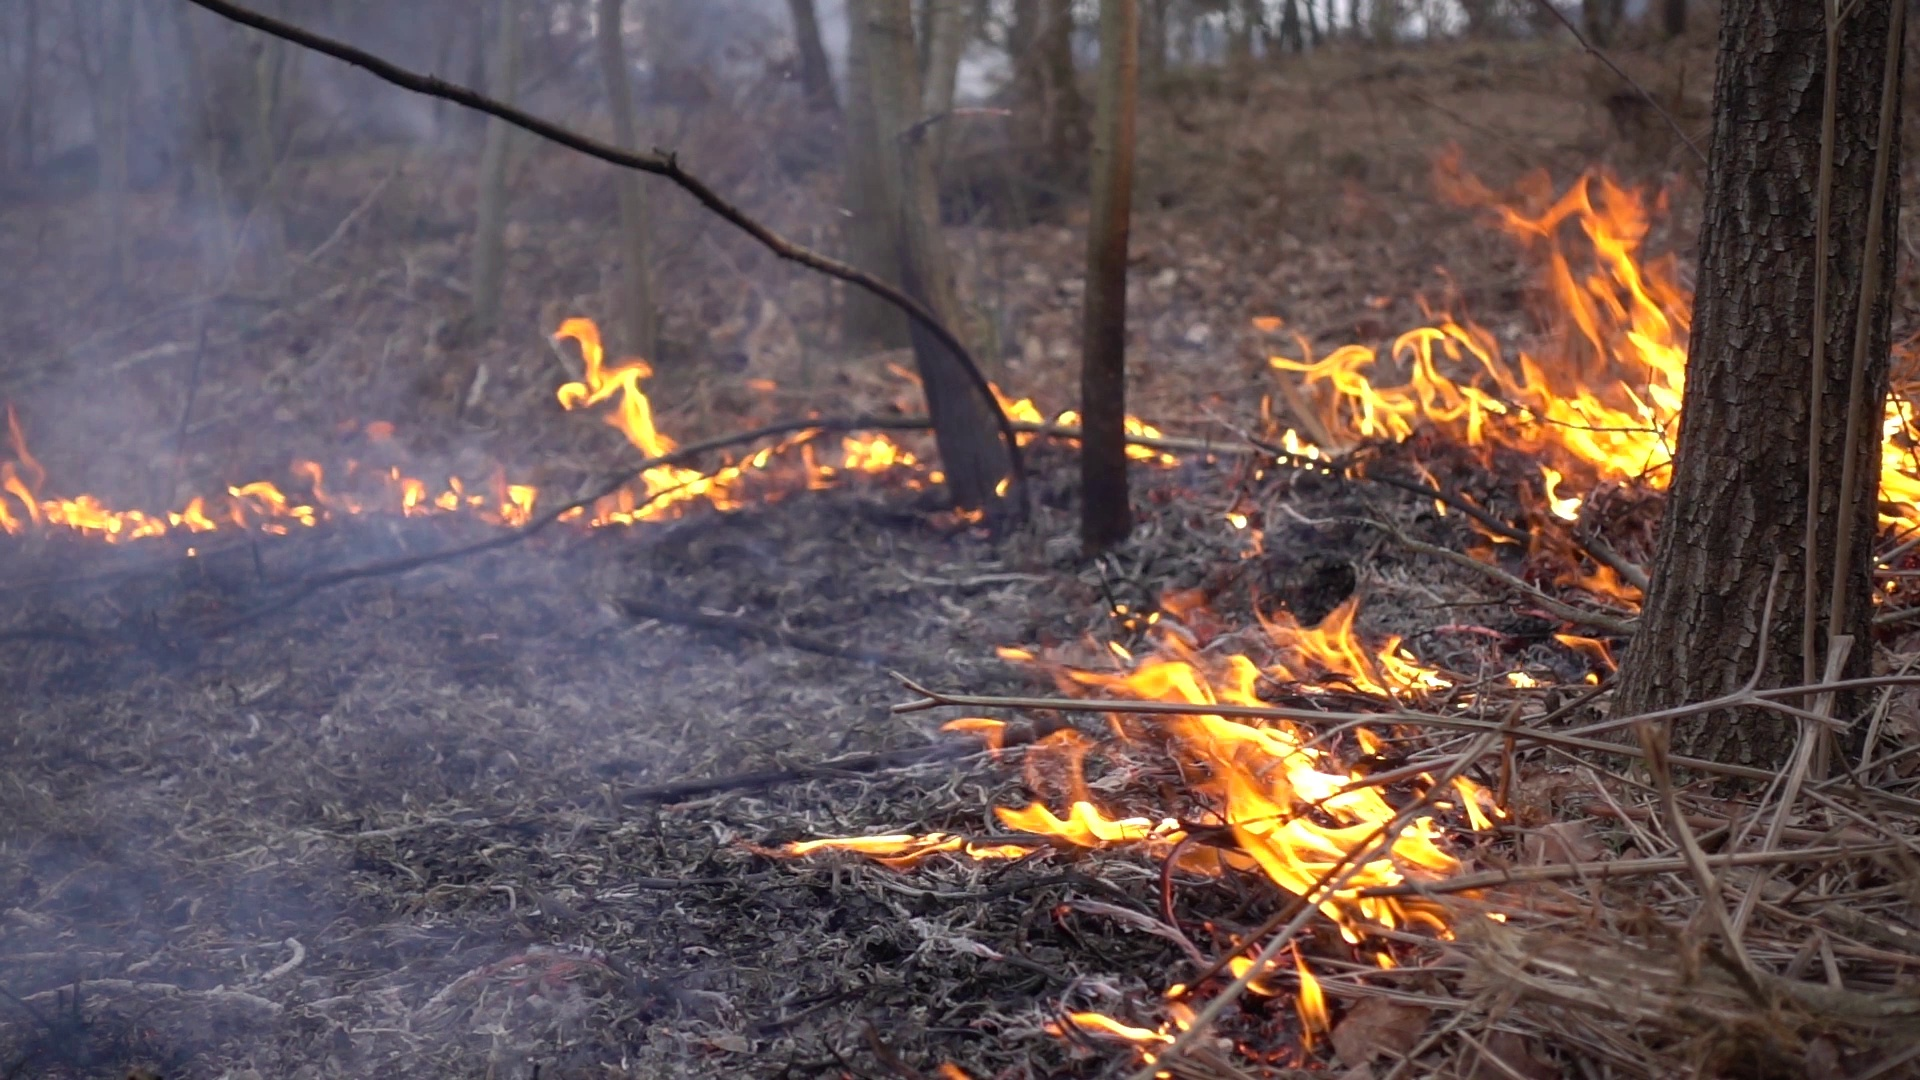fire: (963, 601, 1487, 978), (1258, 177, 1693, 506), (545, 322, 748, 541), (1, 476, 313, 535), (392, 476, 531, 525), (1880, 396, 1920, 531), (1124, 409, 1167, 465), (836, 431, 895, 469)
